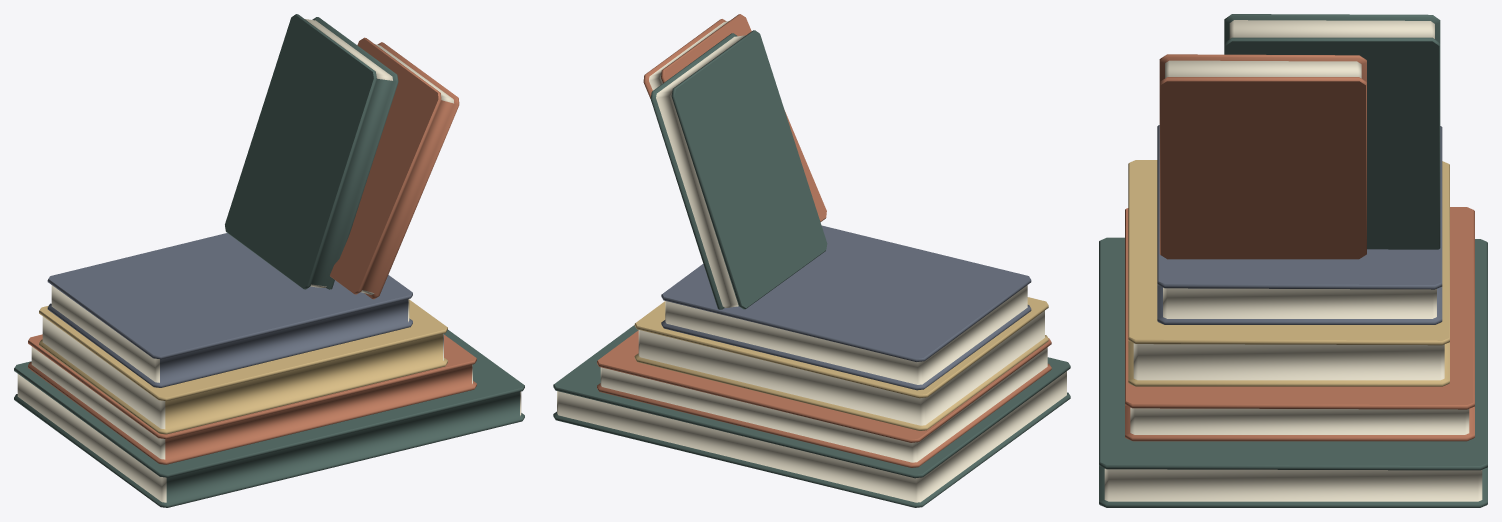
File: original-books-stack.glb
The picture shows the model from 3 angles, left to right: view 1: azimuth 30°, elevation 25°; view 2: azimuth 150°, elevation 25°; view 3: azimuth 270°, elevation 25°; orthographic projection. The views are drawn at different scales.
Parts seen in each view (by area): view 1: original-books-stack; view 2: original-books-stack; view 3: original-books-stack.
Boxes of the visible parts, bbox=[...] form: original-books-stack: bbox=[14, 14, 524, 507]; original-books-stack: bbox=[553, 14, 1070, 507]; original-books-stack: bbox=[1099, 14, 1487, 507].
Size of the model in its own units: 0.25 by 0.22 by 0.18.
